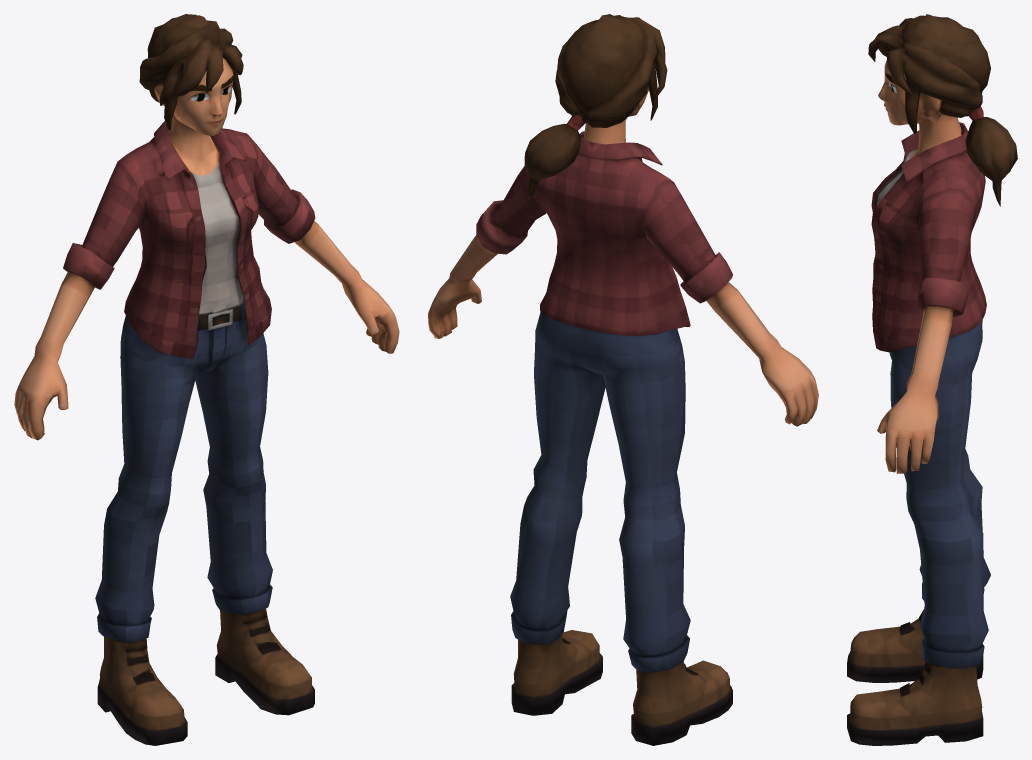
The model's file is woman_red_plaid.glb.
The picture shows the model from 3 angles, left to right: view 1: azimuth 30°, elevation 25°; view 2: azimuth 150°, elevation 25°; view 3: azimuth 270°, elevation 25°; orthographic projection.
Parts seen in each view (by area): view 1: geometry_0; view 2: geometry_0; view 3: geometry_0.
Boxes of the visible parts, left/top/right/bottom form: geometry_0: left=14, top=14, right=399, bottom=745; geometry_0: left=428, top=14, right=818, bottom=745; geometry_0: left=847, top=14, right=1017, bottom=745.
Size of the model in its own units: 0.5435 by 0.9512 by 0.2153.
Materials: 1 (1 with a texture image).
